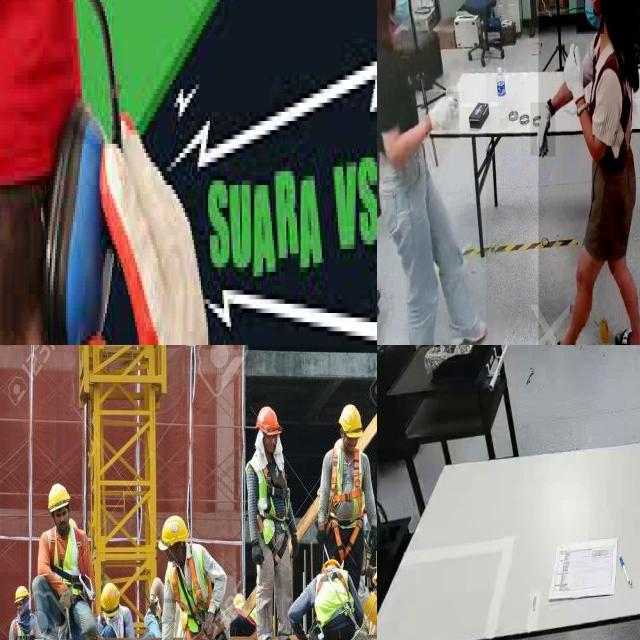Ear-protection: (25, 0, 124, 345)
Harness: (330, 435, 365, 518)
face_mask: (576, 0, 603, 33), (391, 0, 410, 32)
hand_glove: (562, 42, 586, 108), (426, 92, 460, 138), (530, 102, 556, 156)
person: (377, 0, 486, 345), (538, 0, 640, 345), (621, 0, 640, 48)
shoes: (446, 314, 490, 345)
